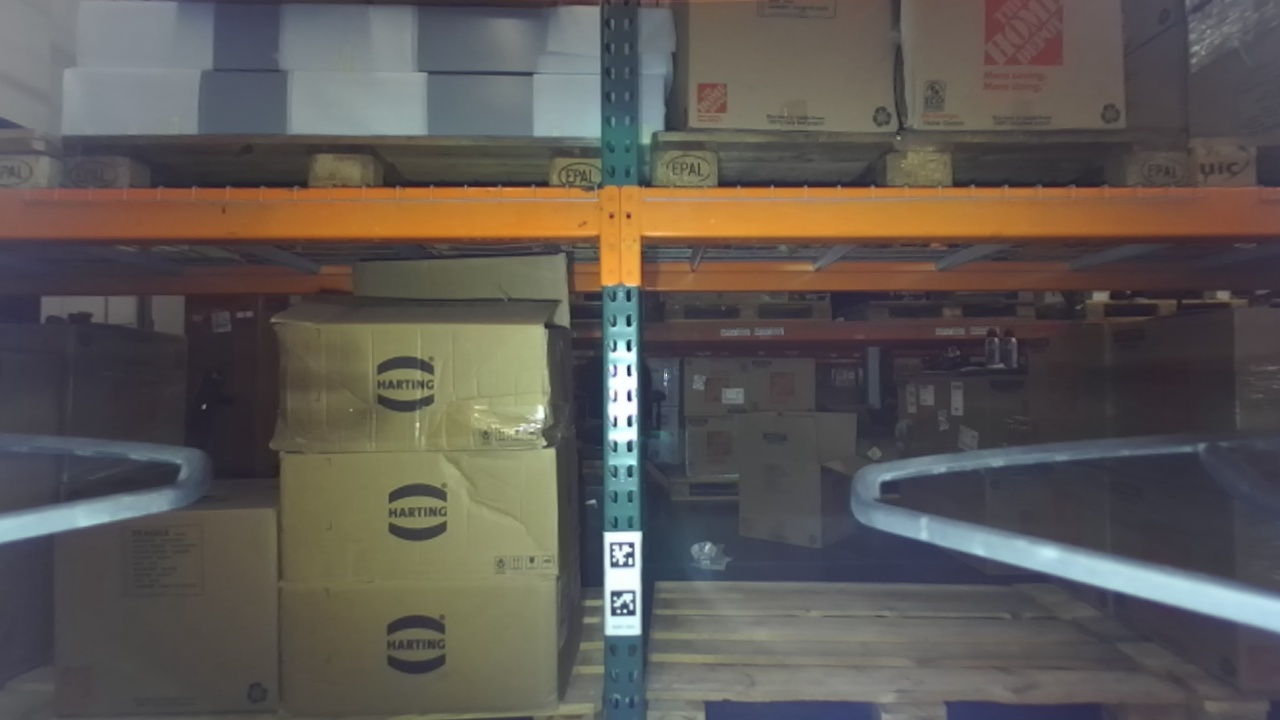box: (260, 287, 581, 467), (61, 487, 288, 720), (262, 443, 585, 593), (266, 574, 576, 720), (665, 3, 915, 156), (894, 1, 1135, 144)
